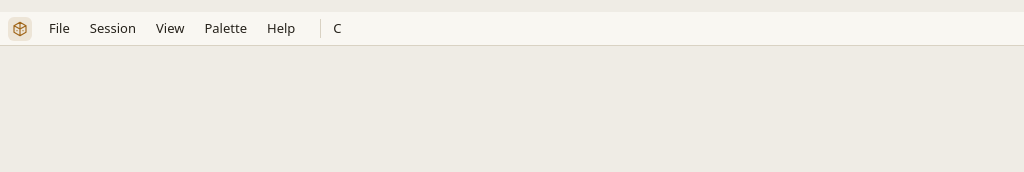
Test: Help → Check for updates › explains when the build has no updater
What coordinates should you click on to do the following:
click the button "Help"
I would click on:
 (281, 28)
Its box is [258,16,304,42].
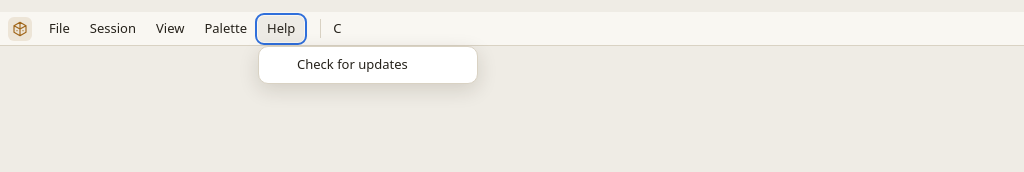
What coordinates should you click on to do the following:
click the menu item "Check for updates"
I would click on:
 (368, 64)
Its box is [263,50,473,78].
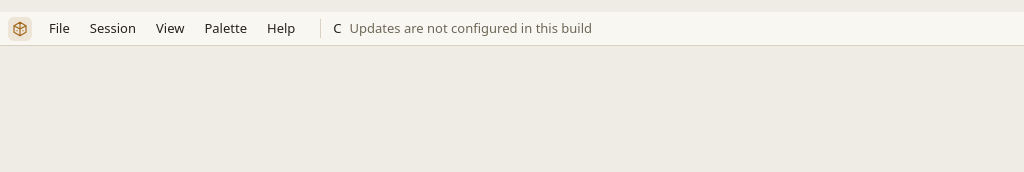
Expected: the message reads "Updates are not configured in this build", [350,19,592,37]
